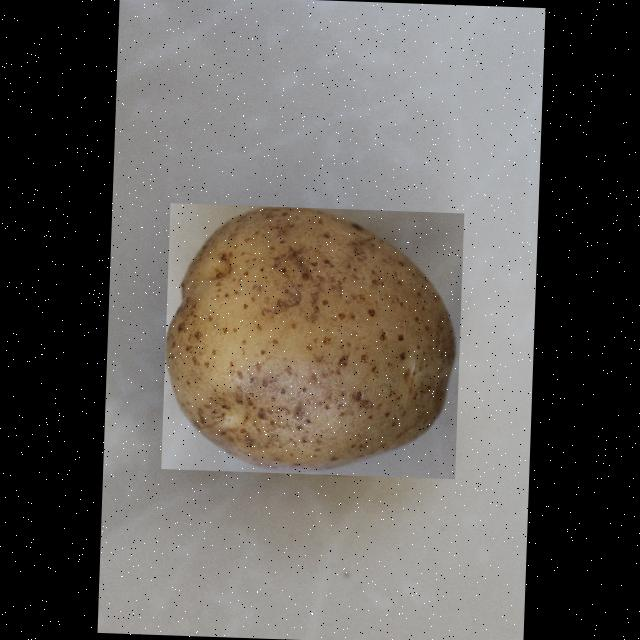Diseased-fungal potato: (160, 202, 463, 478)
